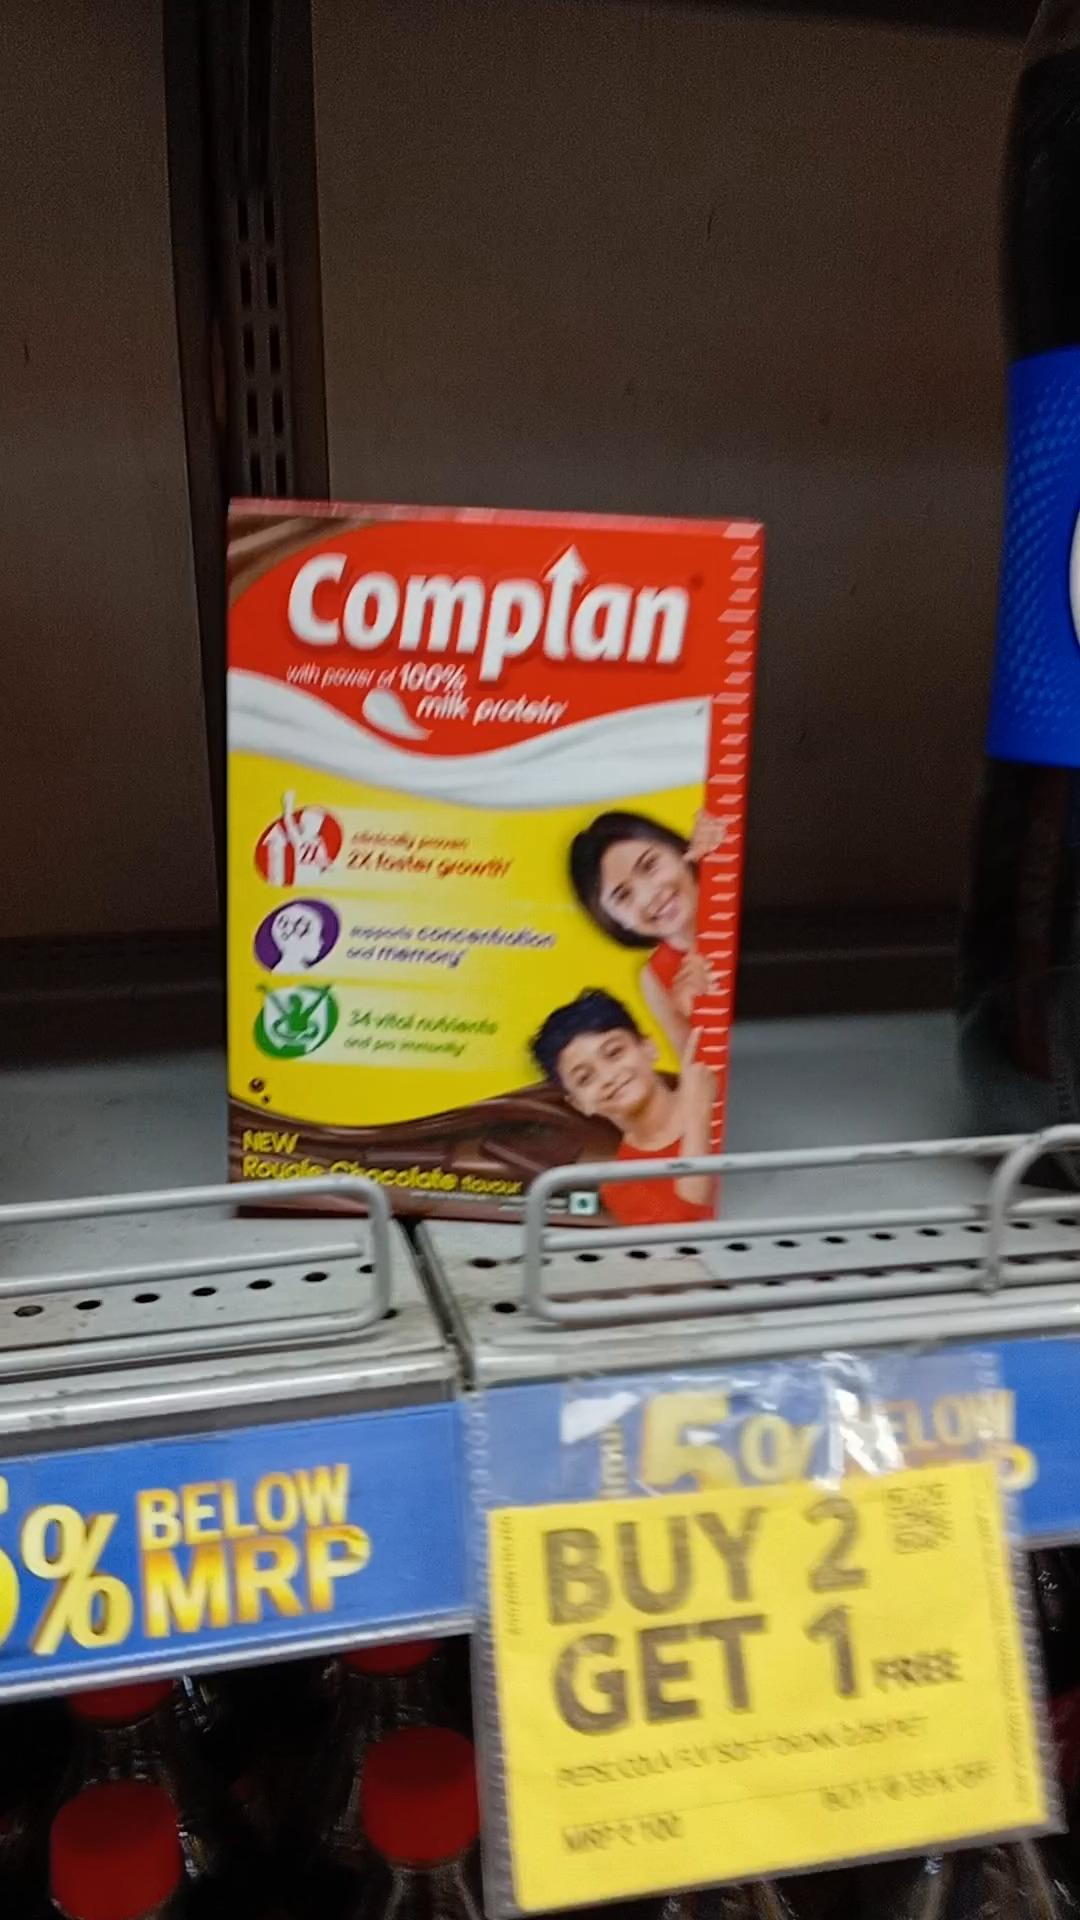COMPLAN_CHOCOLATE_200_GMS_PACK: (229, 500, 717, 1224)
